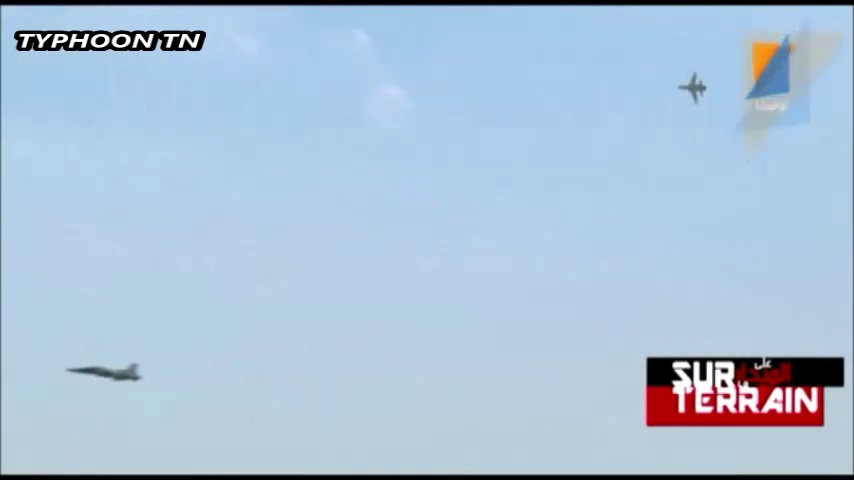Airplane: (62, 356, 143, 384), (674, 70, 709, 100)
